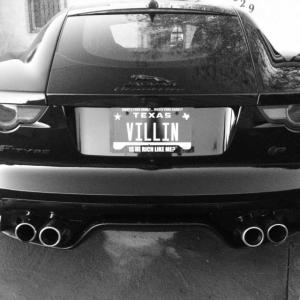Plate: (75, 107, 235, 156)
